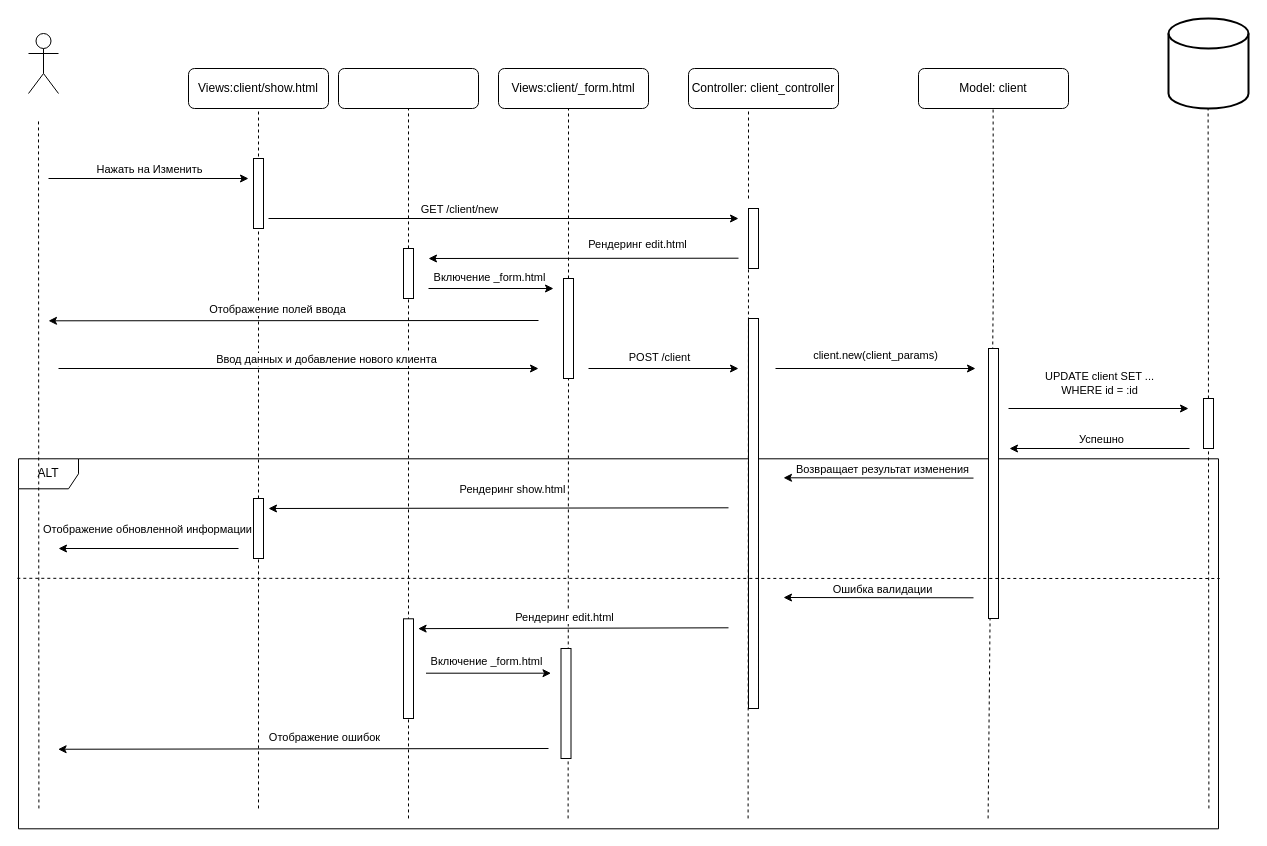
Image size: 1267x846. Some labels were removed from this diagram. The centre of each missing label's shape, as x and y in pixels:
DB: (1208,63)
User: (43,63)
Views:client/edit.html: (408,88)
